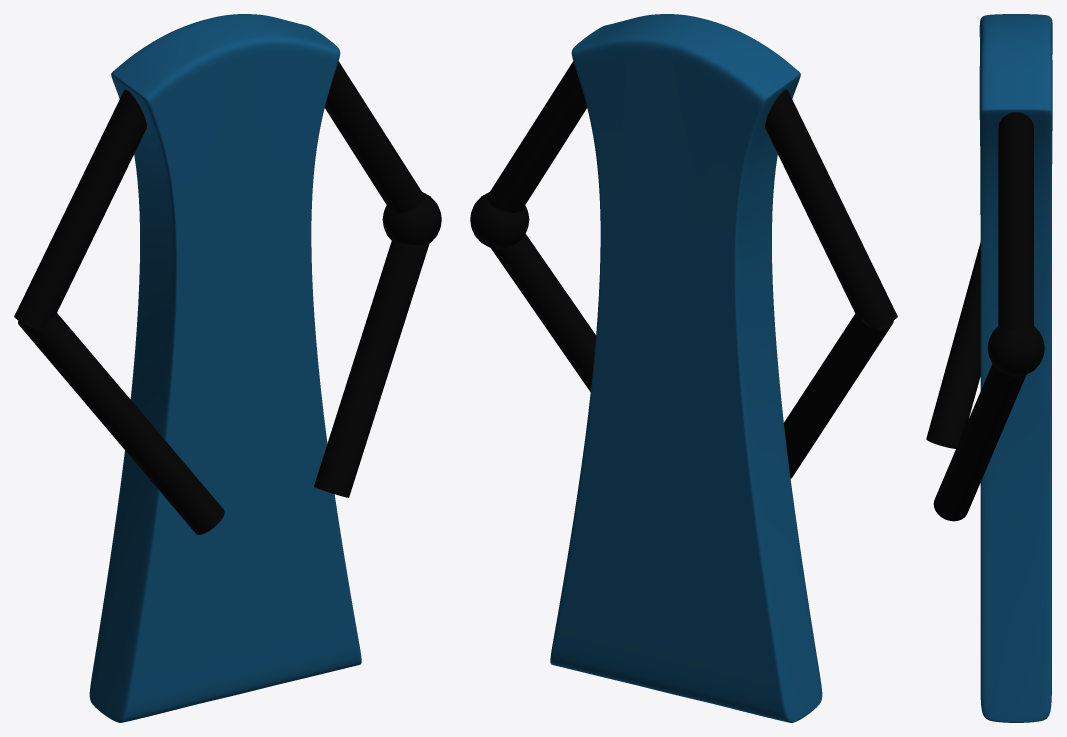
Rendered from testBody.dae.
3 renders of one model, left to right at view 1: azimuth 30°, elevation 25°; view 2: azimuth 150°, elevation 25°; view 3: azimuth 270°, elevation 25°, orthographic. The views are drawn at different scales.
Parts seen in each view (by area): view 1: MaleBody, RightForeArm, LeftForeArm, RightUpperArm, LeftUpperArm, LeftUpperArmSphere; view 2: MaleBody, RightUpperArm, RightForeArm, LeftUpperArm, LeftForeArm, LeftUpperArmSphere; view 3: MaleBody, LeftUpperArm, LeftForeArm, RightForeArm, LeftUpperArmSphere.
Boxes of the visible parts, bbox=[...] form: MaleBody: bbox=[89, 14, 361, 722]; RightForeArm: bbox=[18, 313, 224, 534]; LeftForeArm: bbox=[314, 241, 429, 497]; RightUpperArm: bbox=[14, 89, 146, 331]; LeftUpperArm: bbox=[325, 61, 424, 212]; LeftUpperArmSphere: bbox=[382, 192, 441, 244]; MaleBody: bbox=[550, 14, 822, 722]; RightUpperArm: bbox=[765, 89, 897, 332]; RightForeArm: bbox=[784, 314, 893, 478]; LeftUpperArm: bbox=[487, 61, 586, 212]; LeftForeArm: bbox=[491, 234, 595, 391]; LeftUpperArmSphere: bbox=[470, 192, 529, 249]; MaleBody: bbox=[979, 14, 1052, 722]; LeftUpperArm: bbox=[998, 112, 1033, 329]; LeftForeArm: bbox=[933, 364, 1026, 521]; RightForeArm: bbox=[926, 242, 980, 448]; LeftUpperArmSphere: bbox=[987, 326, 1044, 376].
Size of the model in its own units: 131 by 196 by 35.4.
